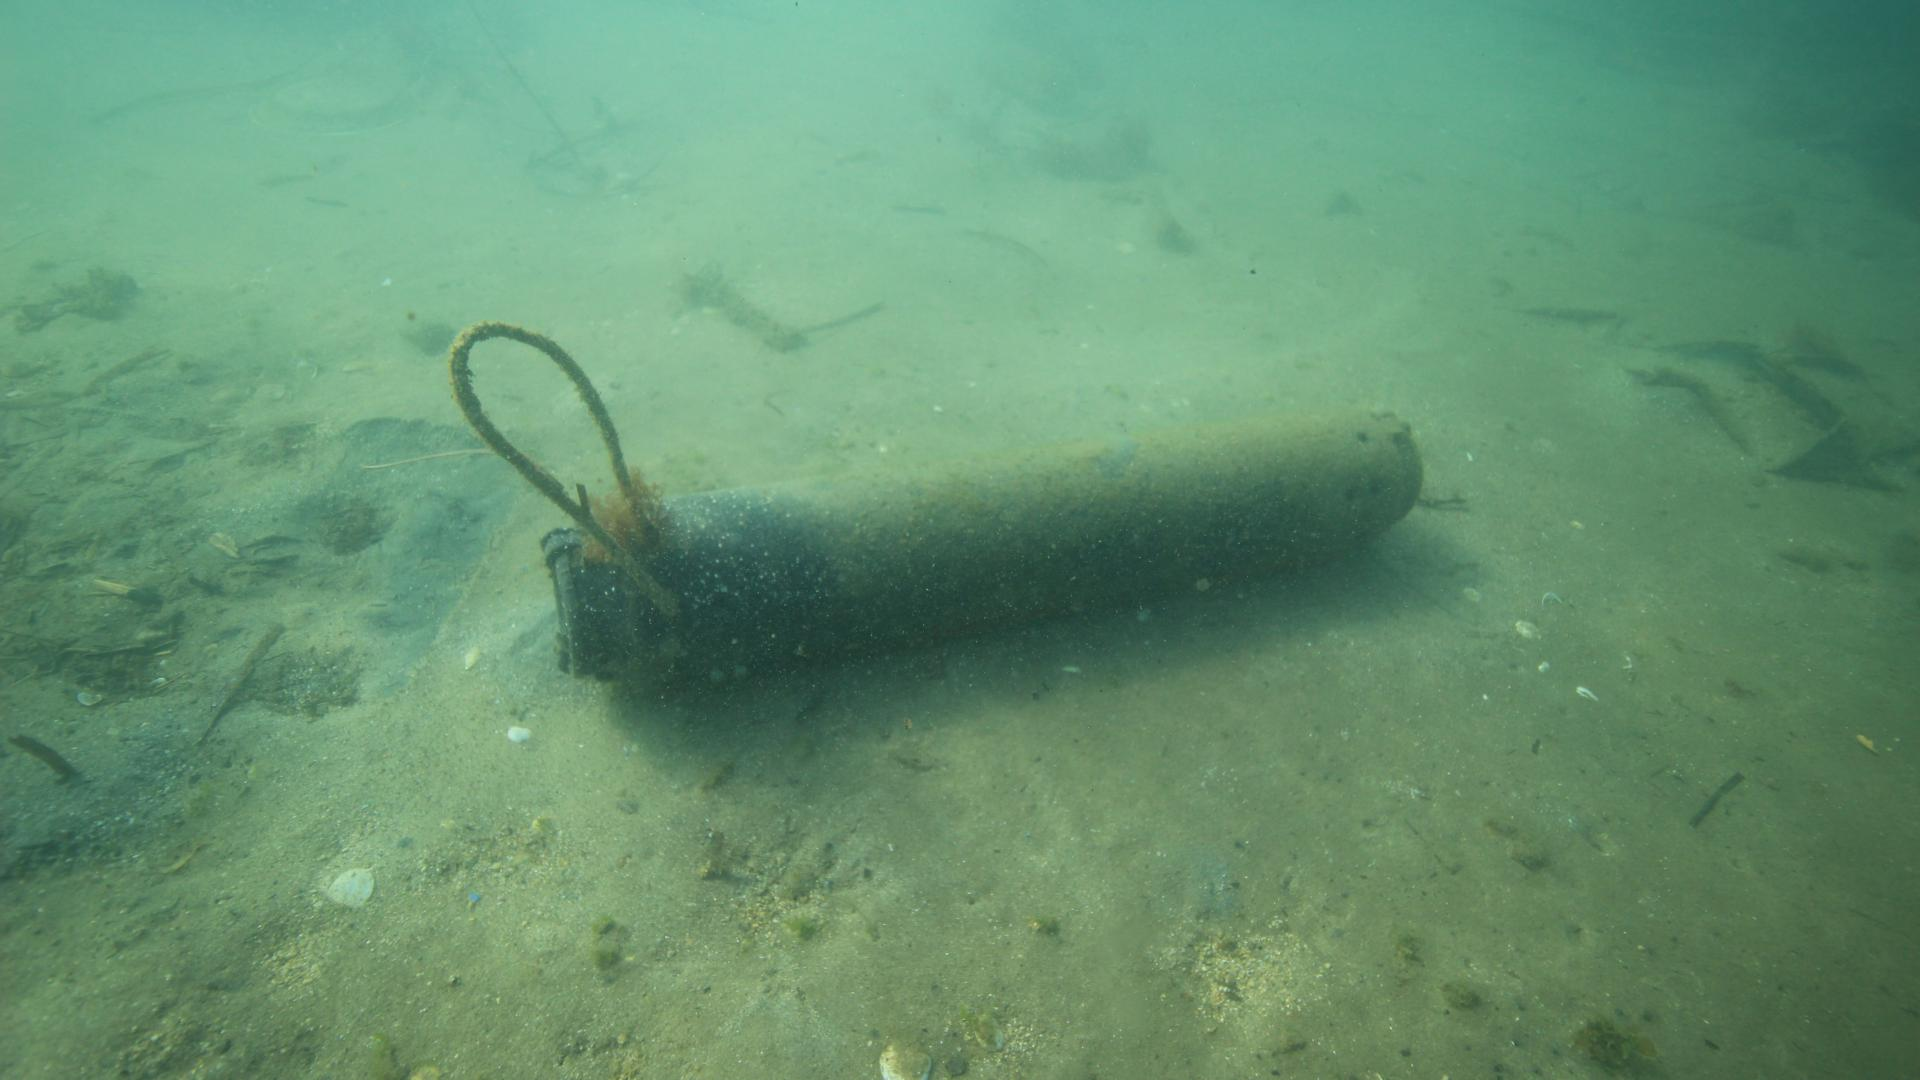eel fish trap: (546, 400, 1425, 688)
rope: (444, 318, 675, 613)
